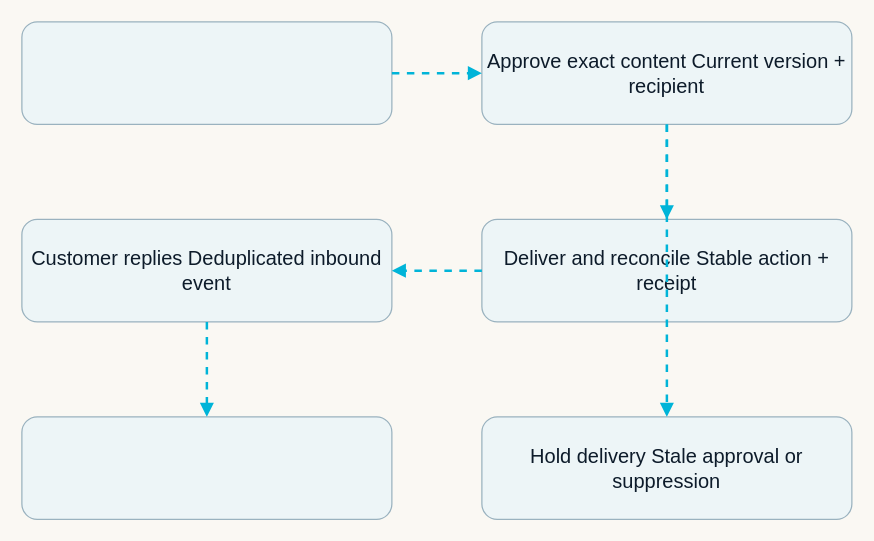
This 874x541 diagram has some shape labels left out. Here are the shapes that lost their labels. From the top down, the centre of each, then its label:
pixel 206 72: Draft from current facts Template + source evidence
pixel 206 467: Owned follow-up task Resolve with a recorded answer
